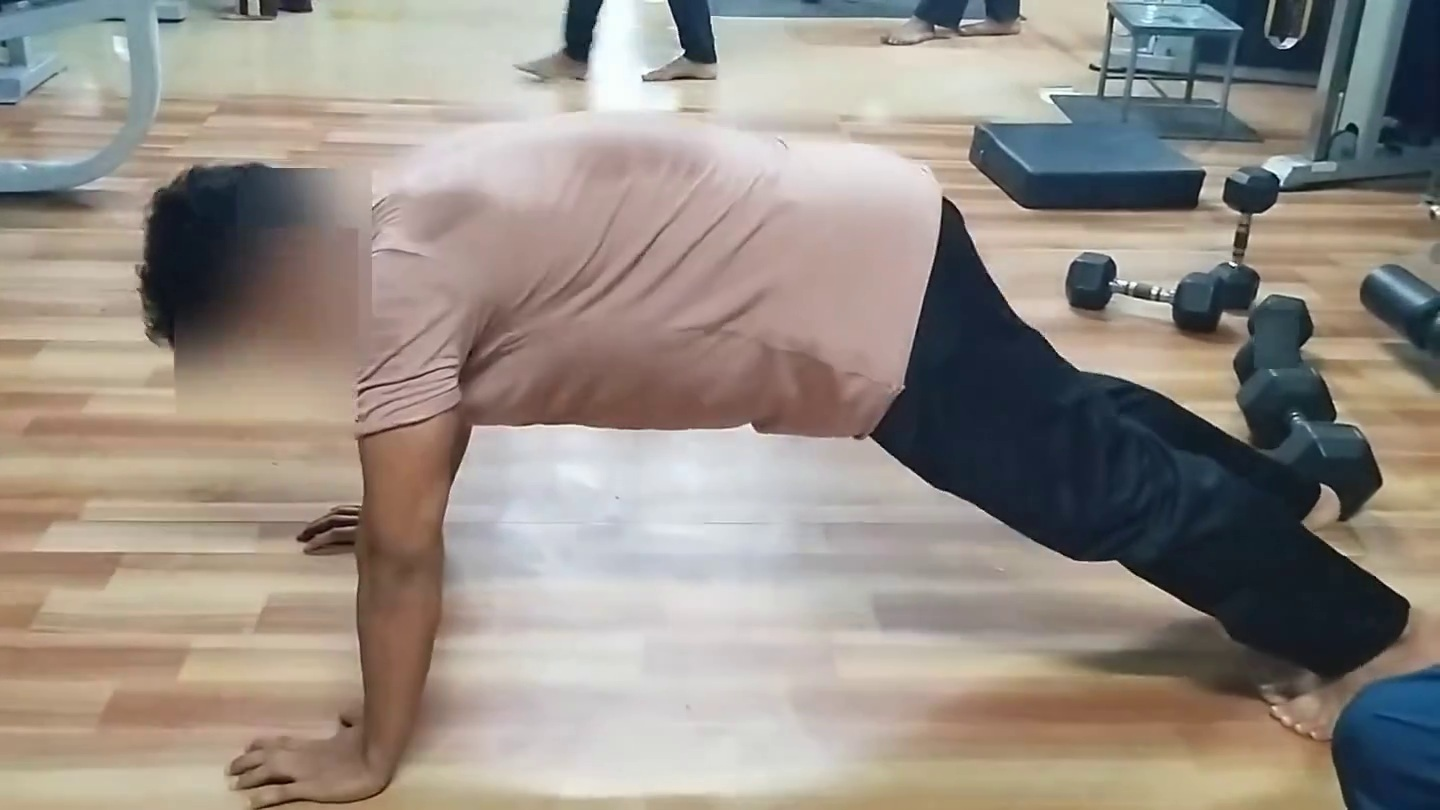push_up: (162, 134, 1440, 810)
